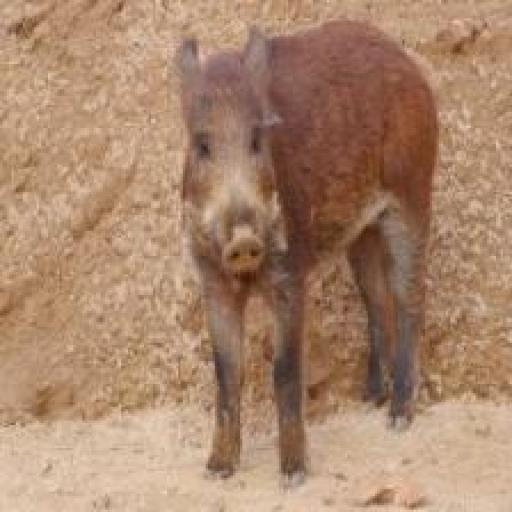Pig: (160, 12, 441, 498)
